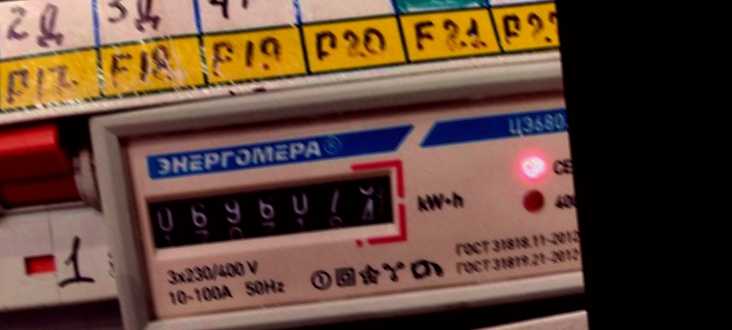0: (290, 185, 310, 217), (156, 203, 175, 233)
4: (358, 193, 378, 224)
6: (257, 190, 277, 220), (189, 199, 209, 228)
7: (323, 182, 346, 215)
9: (222, 195, 243, 225)
screen: (131, 155, 415, 267)
